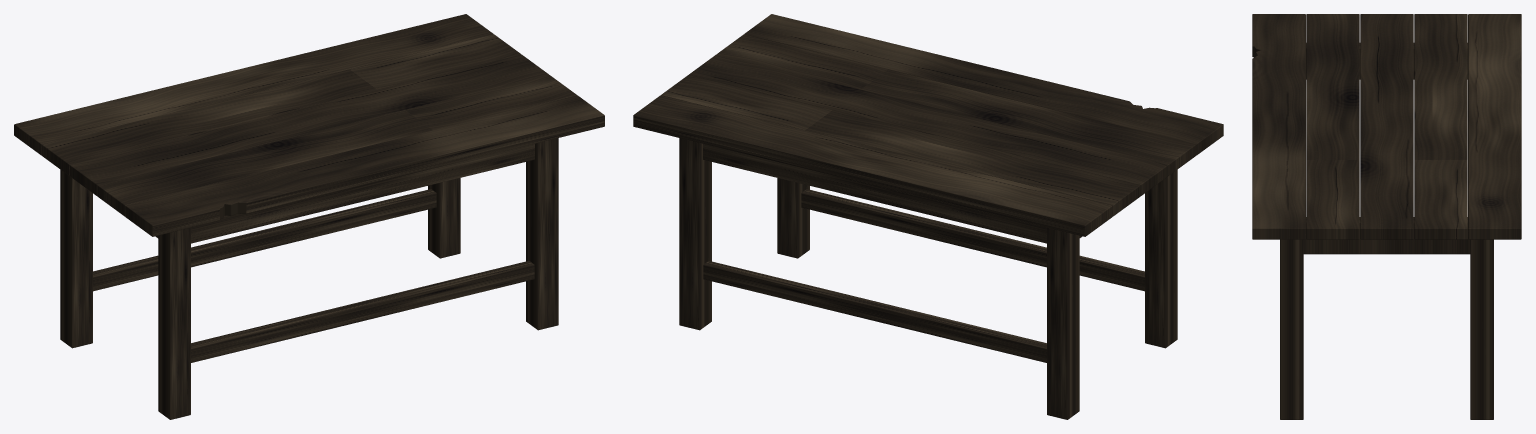
File: table-reference.glb
The picture shows the model from 3 angles, left to right: view 1: azimuth 30°, elevation 25°; view 2: azimuth 150°, elevation 25°; view 3: azimuth 270°, elevation 25°; orthographic projection. The views are drawn at different scales.
Visible parts, largest first — view 1: table_top_plank_00, table_top_plank_02, table_top_plank_04, table_top_plank_03, table_top_plank_01, table_low_stretcher_-1, table_low_stretcher_1, table_leg_-1_-1, table_leg_1_-1, table_long_apron_-1, table_leg_-1_1, table_leg_1_1; view 2: table_top_plank_04, table_top_plank_02, table_top_plank_03, table_top_plank_01, table_top_plank_00, table_low_stretcher_1, table_low_stretcher_-1, table_leg_-1_1, table_leg_1_1, table_long_apron_1, table_leg_-1_-1, table_leg_1_-1; view 3: table_top_plank_01, table_top_plank_02, table_top_plank_03, table_top_plank_04, table_top_plank_00, table_leg_1_1, table_leg_1_-1, table_end_apron_1.
Part boxes in pixels (left/top/right/bottom): table_top_plank_00: left=125, top=95, right=604, bottom=236; table_top_plank_02: left=69, top=54, right=548, bottom=195; table_top_plank_04: left=14, top=14, right=493, bottom=155; table_top_plank_03: left=42, top=34, right=521, bottom=175; table_top_plank_01: left=97, top=75, right=576, bottom=216; table_low_stretcher_-1: left=191, top=261, right=534, bottom=362; table_low_stretcher_1: left=93, top=189, right=436, bottom=291; table_leg_-1_-1: left=158, top=227, right=190, bottom=419; table_leg_1_-1: left=526, top=138, right=558, bottom=330; table_long_apron_-1: left=191, top=144, right=534, bottom=243; table_leg_-1_1: left=60, top=169, right=92, bottom=348; table_leg_1_1: left=428, top=178, right=460, bottom=258; table_top_plank_04: left=633, top=95, right=1112, bottom=236; table_top_plank_02: left=689, top=54, right=1168, bottom=196; table_top_plank_03: left=661, top=75, right=1140, bottom=216; table_top_plank_01: left=716, top=34, right=1195, bottom=175; table_top_plank_00: left=744, top=14, right=1223, bottom=155; table_low_stretcher_1: left=703, top=261, right=1046, bottom=362; table_low_stretcher_-1: left=801, top=189, right=1144, bottom=291; table_leg_-1_1: left=1047, top=227, right=1079, bottom=419; table_leg_1_1: left=679, top=138, right=711, bottom=330; table_long_apron_1: left=703, top=144, right=1046, bottom=243; table_leg_-1_-1: left=1145, top=169, right=1177, bottom=348; table_leg_1_-1: left=777, top=178, right=809, bottom=258; table_top_plank_01: left=1306, top=14, right=1359, bottom=239; table_top_plank_02: left=1360, top=14, right=1413, bottom=239; table_top_plank_03: left=1414, top=14, right=1467, bottom=239; table_top_plank_04: left=1468, top=14, right=1521, bottom=239; table_top_plank_00: left=1252, top=14, right=1305, bottom=239; table_leg_1_1: left=1470, top=239, right=1493, bottom=419; table_leg_1_-1: left=1280, top=239, right=1303, bottom=419; table_end_apron_1: left=1303, top=217, right=1470, bottom=254.
Size of the model in its own units: 1.6 by 0.72 by 0.8486.
Materials: 1 (1 with a texture image).
